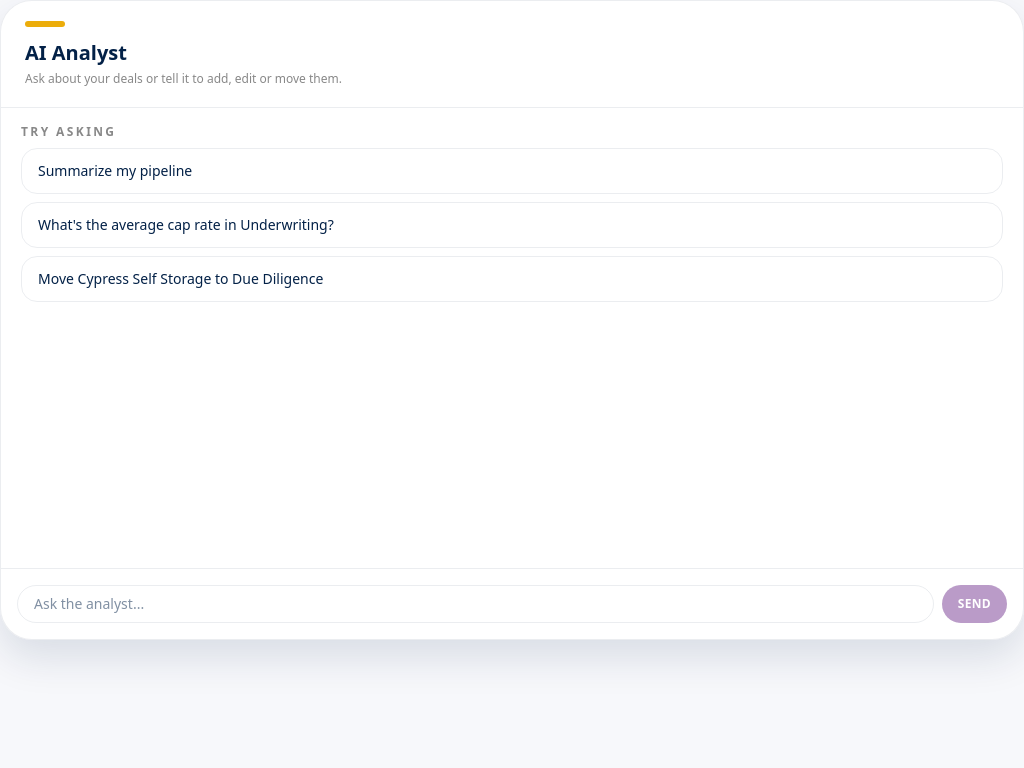
Scenario: ChatSidebar › shows an error when the AI fails
In the field named "Message": (475, 604) [17,585,934,623], type "hi"
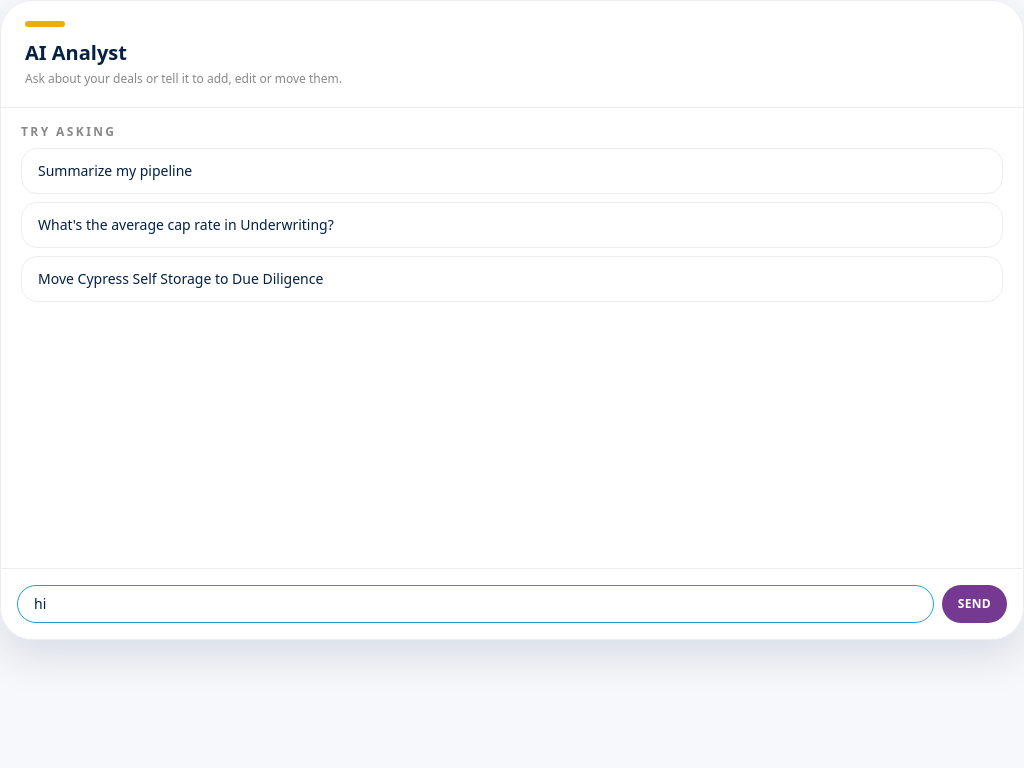
Click the button "Send": (974, 604) [942,585,1007,623]
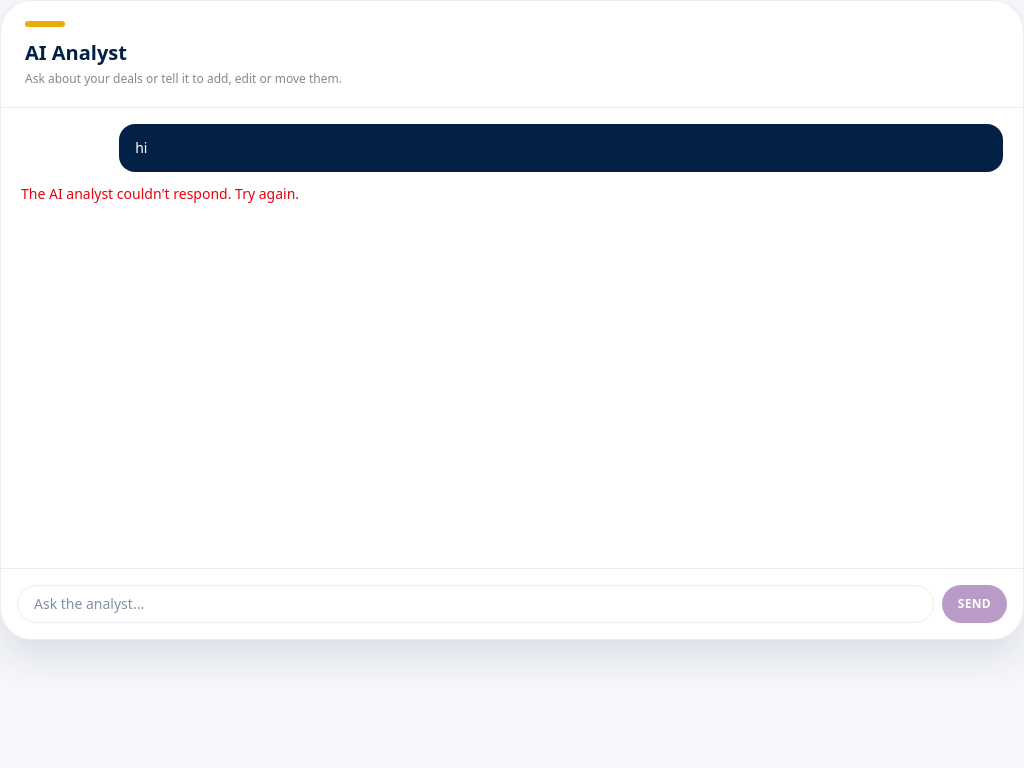
Check: the message shows "couldn't respond", box [21,184,299,203]
